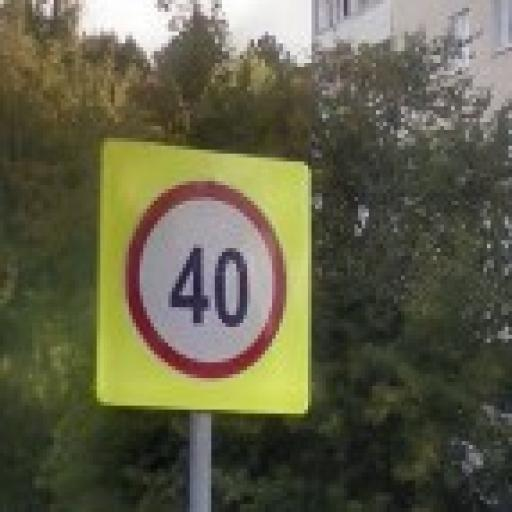traffic_sign: (127, 178, 288, 379)
